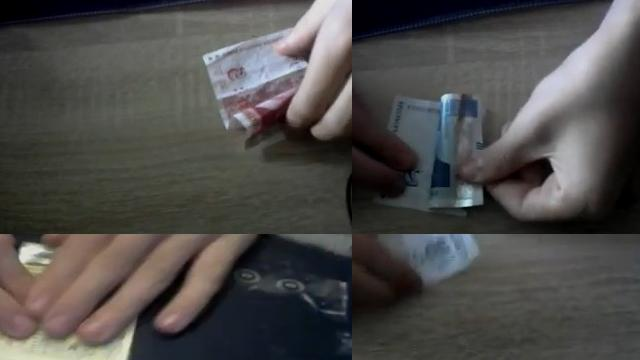10leva: (0, 325, 136, 360)
20leva: (382, 94, 482, 217), (375, 234, 481, 287)
